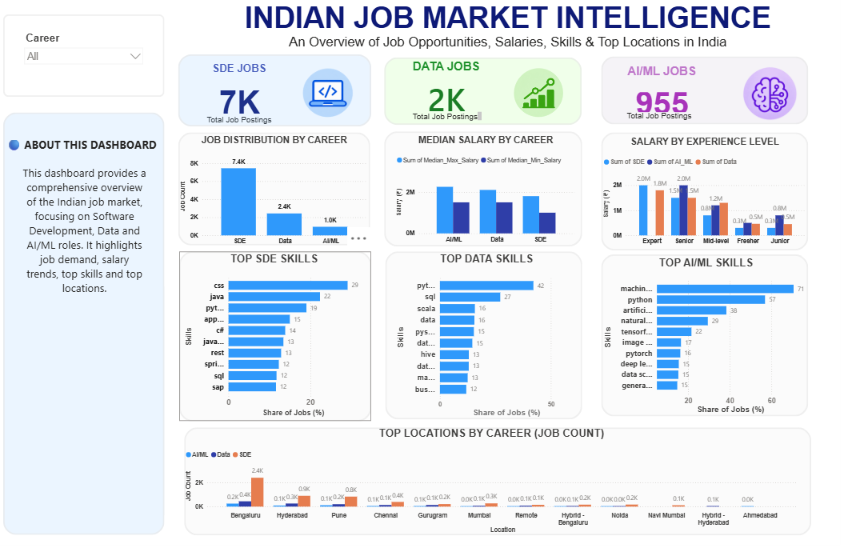

The dashboard page shown, as its layout file describes it:
{"tool":"powerbi","page":{"name":"Page 1","canvas":[1700,1100],"ordinal":0},"visuals":[{"type":"textbox","box":[396,0,1258,118],"z":0},{"type":"cardVisual","title":"DATA JOBS","fields":{"Data":["Sum(Career Summary.Job_Count)"]},"box":[777.5,122.5,247.5,127.5],"z":1000},{"type":"cardVisual","title":"AI/ML JOBS","fields":{"Data":["Sum(Career Summary.Job_Count)"]},"box":[1212,132,242,114],"z":2000},{"type":"cardVisual","title":"SDE JOBS","fields":{"Data":["Sum(Career Summary.Job_Count)"]},"box":[366,128,244,122],"z":3000},{"type":"clusteredColumnChart","title":"JOB DISTRIBUTION BY CAREER","fields":{"Category":["Career Summary.Career"],"Y":["Sum(Career Summary.Job_Count)"]},"box":[366,272,384,230],"z":4000},{"type":"clusteredColumnChart","title":"MEDIAN SALARY BY CAREER","fields":{"Category":["Career Summary.Career"],"Y":["Sum(Career Summary.Median_Max_Salary)","Sum(Career Summary.Median_Min_Salary)"]},"box":[798,272,366,226],"z":5000},{"type":"clusteredColumnChart","title":"SALARY BY EXPERIENCE LEVEL","fields":{"Category":["Experience Salary.Experience_Level"],"Y":["Sum(Experience Salary.SDE)","Sum(Experience Salary.AI_ML)","Sum(Experience Salary.Data)"]},"box":[1212,276,414,226],"z":6000},{"type":"clusteredBarChart","title":"TOP SDE SKILLS","fields":{"Category":["SDE Top 10.Skill"],"Y":["Sum(SDE Top 10.SDE)"]},"box":[376,508,364,334],"z":7000},{"type":"clusteredBarChart","title":"TOP DATA SKILLS","fields":{"Category":["Data Top 10.Skill"],"Y":["Sum(Data Top 10.Data)"]},"box":[798,508,370,334],"z":8000},{"type":"clusteredBarChart","title":"TOP AI/ML SKILLS","fields":{"Category":["AI ML Top 10.Skill"],"Y":["Sum(AI ML Top 10.AI_ML)"]},"box":[1212,516,420,320],"z":9000},{"type":"clusteredColumnChart","title":"TOP LOCATIONS BY CAREER (JOB COUNT)","fields":{"Category":["Top Locations.location"],"Series":["Top Locations.Career"],"Y":["Sum(Top Locations.Job_Count)"]},"box":[376,858,1234,216],"z":10000},{"type":"textbox","box":[418,228,142,28],"z":11000},{"type":"shape","box":[366,112,386,144],"z":12000},{"type":"shape","box":[777.5,117.5,395,135],"z":13000},{"type":"shape","box":[1212,116,414,136],"z":14000},{"type":"textbox","box":[827.5,222.5,150,27.5],"z":15000},{"type":"textbox","box":[1258,220,140,30],"z":16000},{"type":"image","box":[610,136,111.7,106.7],"z":17000},{"type":"image","box":[1026,126,123.3,128.3],"z":18000},{"type":"image","box":[1490,126,120,128.3],"z":19000},{"type":"slicer","fields":{"Values":["Career Summary.Career"]},"box":[47.5,62.5,257.8,103.3],"z":20000},{"type":"shape","box":[15,32.5,322.5,165],"z":21000},{"type":"shape","box":[15,227.5,322.5,845],"z":22000},{"type":"textbox","box":[50,327.1,257.1,432.9],"z":23000},{"type":"textbox","box":[17.1,271.4,364.3,41.4],"z":24000},{"type":"shape","box":[366,268,384,226],"z":25000},{"type":"shape","box":[778,266,396,230],"z":26000},{"type":"shape","box":[1212,268,414,236],"z":27000},{"type":"shape","box":[368,506,384,340],"z":28000},{"type":"shape","box":[780,506,394,336],"z":29000},{"type":"shape","box":[1212,512,414,324],"z":30000},{"type":"shape","box":[378,858,1254,216],"z":31000}]}

Visuals, with their boxes in screenshot pixels (x1, y1, x2, y2), scaled from the page's 1700x1100 canvas onto the 841x546 screenshot:
textbox: region(196, 0, 818, 59)
"DATA JOBS" cardVisual: region(385, 61, 507, 124)
"AI/ML JOBS" cardVisual: region(600, 66, 719, 122)
"SDE JOBS" cardVisual: region(181, 64, 302, 124)
"JOB DISTRIBUTION BY CAREER" clusteredColumnChart: region(181, 135, 371, 249)
"MEDIAN SALARY BY CAREER" clusteredColumnChart: region(395, 135, 576, 247)
"SALARY BY EXPERIENCE LEVEL" clusteredColumnChart: region(600, 137, 804, 249)
"TOP SDE SKILLS" clusteredBarChart: region(186, 252, 366, 418)
"TOP DATA SKILLS" clusteredBarChart: region(395, 252, 578, 418)
"TOP AI/ML SKILLS" clusteredBarChart: region(600, 256, 807, 415)
"TOP LOCATIONS BY CAREER (JOB COUNT)" clusteredColumnChart: region(186, 426, 796, 533)
textbox: region(207, 113, 277, 127)
shape: region(181, 56, 372, 127)
shape: region(385, 58, 580, 125)
shape: region(600, 58, 804, 125)
textbox: region(409, 110, 484, 124)
textbox: region(622, 109, 692, 124)
image: region(302, 68, 357, 120)
image: region(508, 63, 569, 126)
image: region(737, 63, 796, 126)
slicer - Career Summary.Career: region(23, 31, 151, 82)
shape: region(7, 16, 167, 98)
shape: region(7, 113, 167, 532)
textbox: region(25, 162, 152, 377)
textbox: region(8, 135, 189, 155)
shape: region(181, 133, 371, 245)
shape: region(385, 132, 581, 246)
shape: region(600, 133, 804, 250)
shape: region(182, 251, 372, 420)
shape: region(386, 251, 581, 418)
shape: region(600, 254, 804, 415)
shape: region(187, 426, 807, 533)
